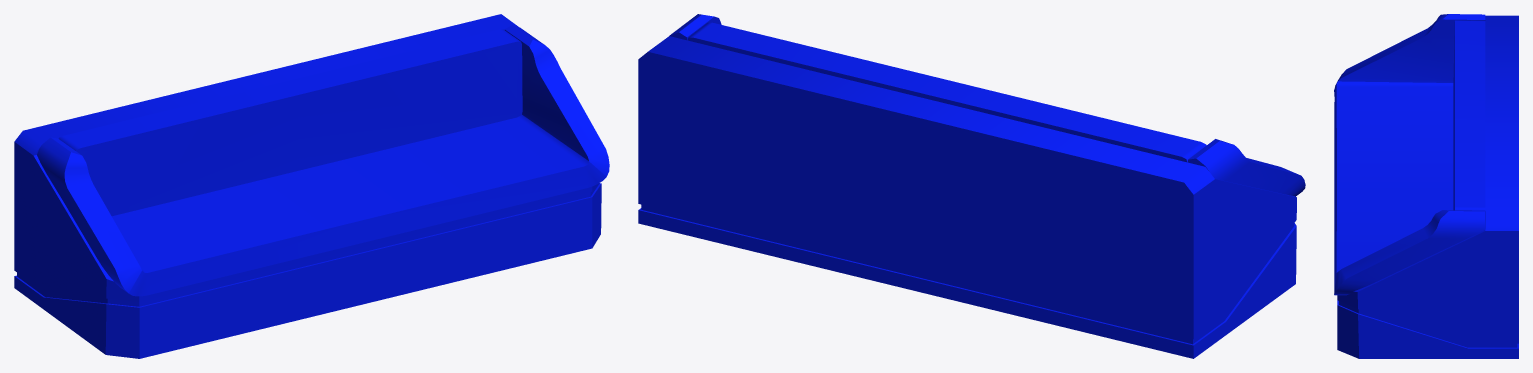
File: SM_Tram_Seat_Big.FBX
3 renders of one model, left to right at view 1: azimuth 30°, elevation 25°; view 2: azimuth 150°, elevation 25°; view 3: azimuth 270°, elevation 25°, orthographic. The views are drawn at different scales.
Parts seen in each view (by area): view 1: seat_big; view 2: seat_big; view 3: seat_big.
Part boxes in pixels (x1=…): seat_big: x1=14, y1=14, x2=609, y2=358; seat_big: x1=638, y1=14, x2=1305, y2=358; seat_big: x1=1334, y1=14, x2=1518, y2=358.
Bounding box in the file's own units: 296 × 92.13 × 110.
